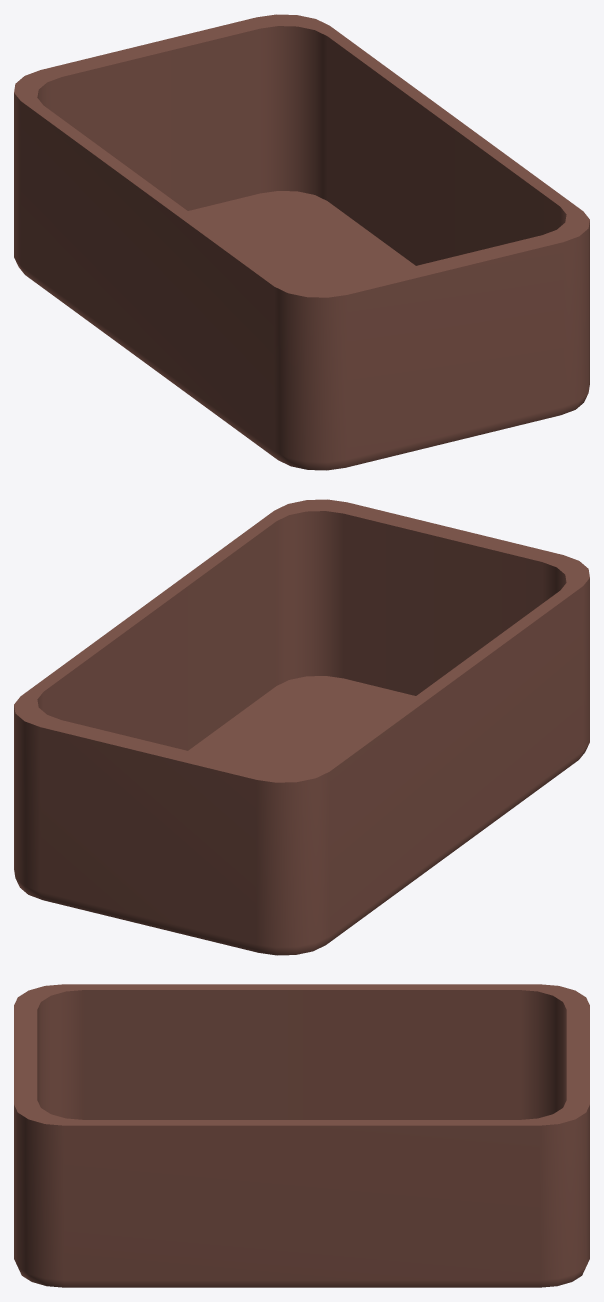
The model's file is Battery_Box.fbx.
3 views of the same model, one above another, from view 1: azimuth 30°, elevation 25°; view 2: azimuth 150°, elevation 25°; view 3: azimuth 270°, elevation 25° (orthographic). The views are drawn at different scales.
Parts seen in each view (by area): view 1: pCube1; view 2: pCube1; view 3: pCube1.
Boxes of the visible parts, x1,y1,x2,y2 form: pCube1: (14,14,589,470); pCube1: (14,499,589,955); pCube1: (14,984,589,1287).
Bounding box in the file's own units: 6.13 × 3.39 × 10.55.
